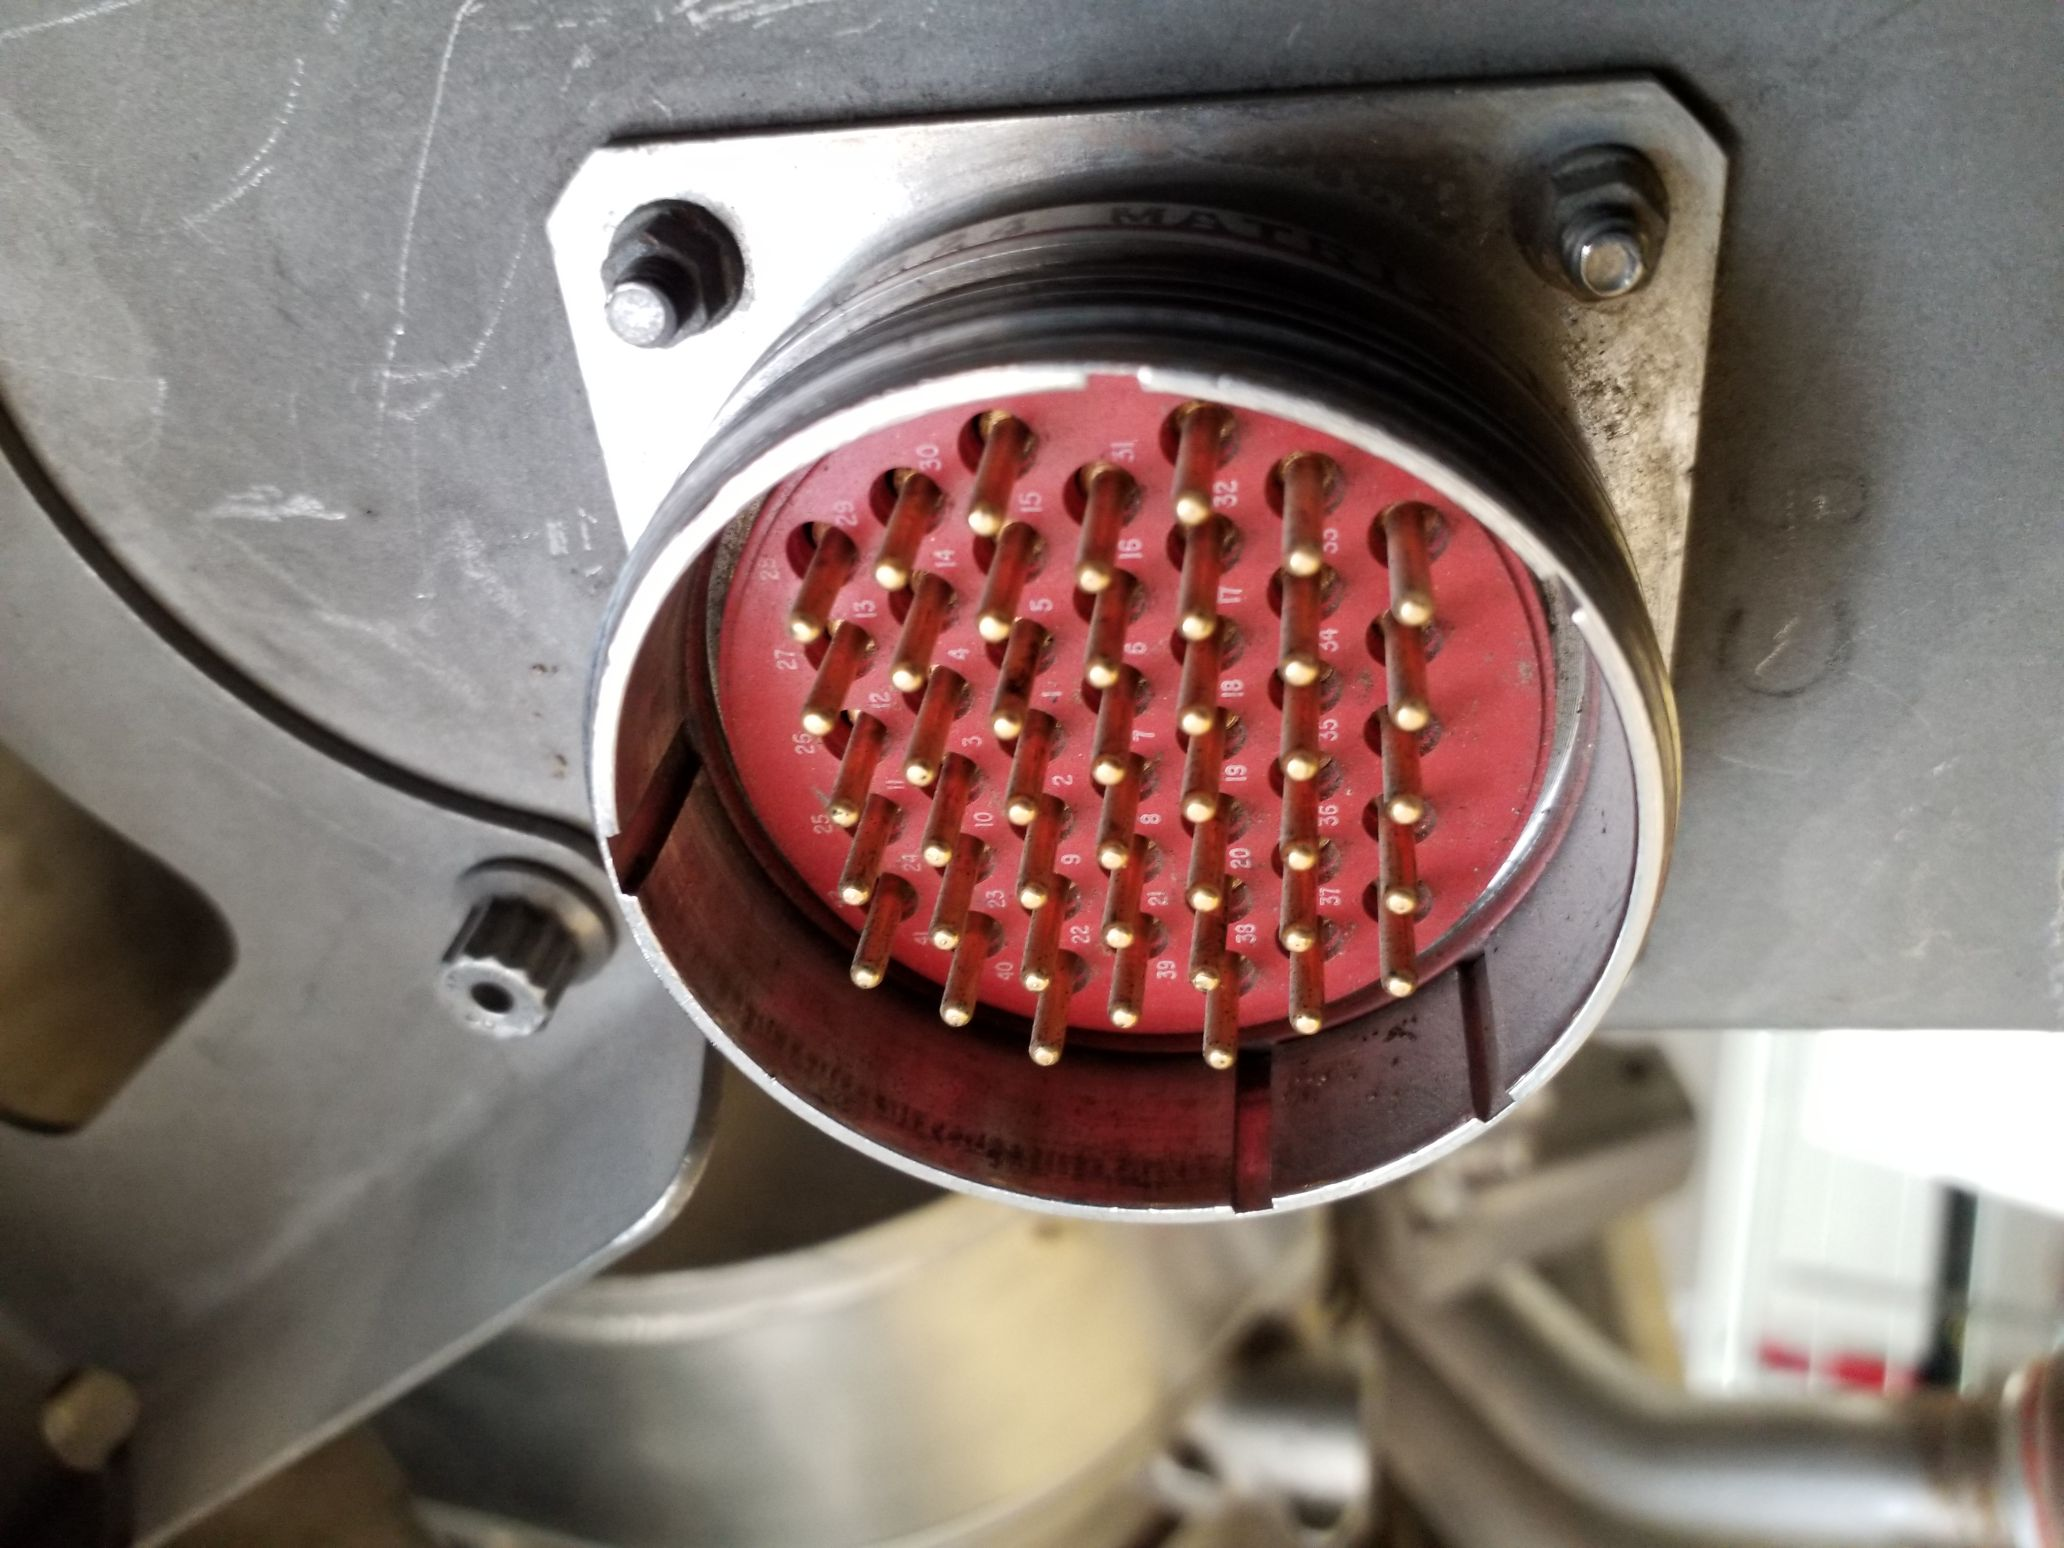outlet: (561, 351, 1676, 1233)
